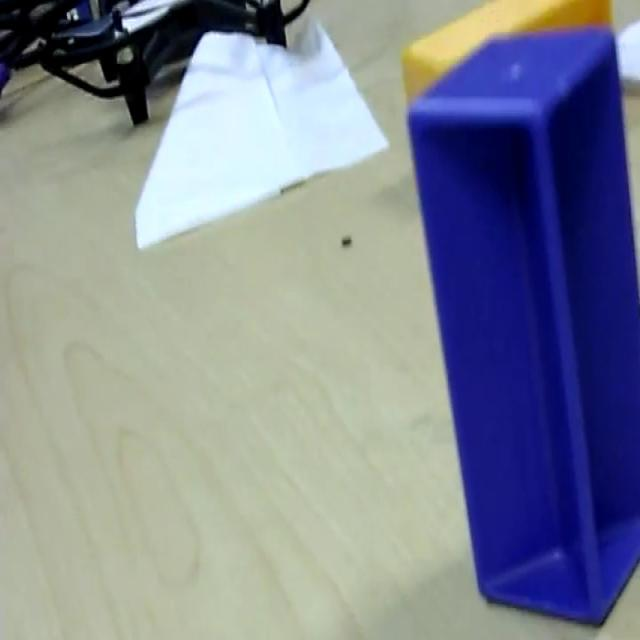blue_block: (405, 24, 639, 624)
yellow_block: (400, 0, 612, 101)
